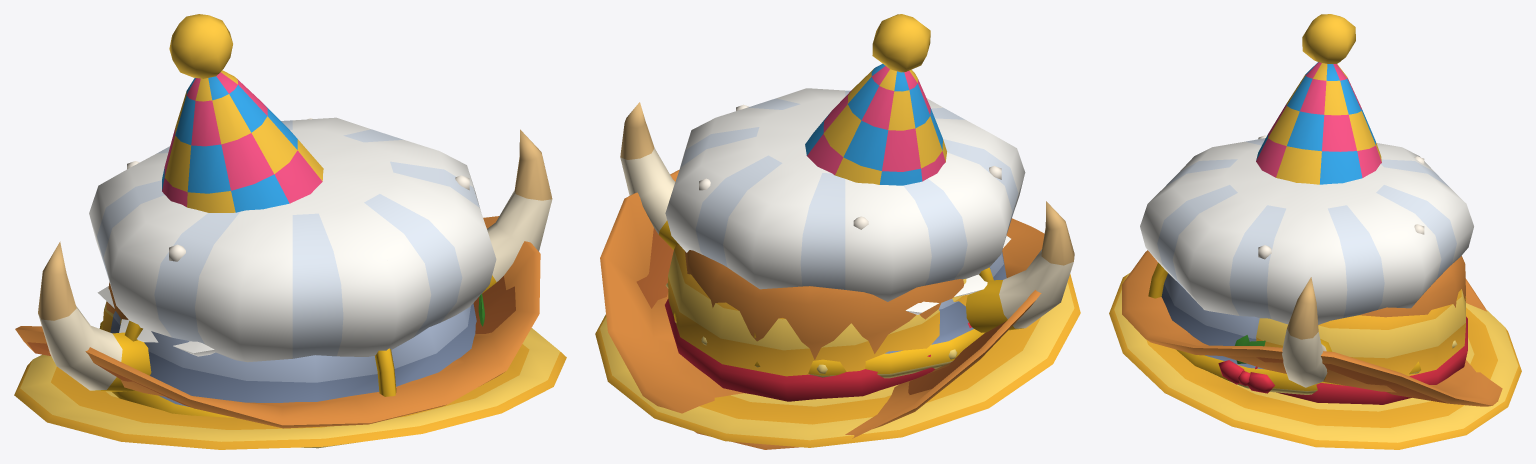
Rendered from hats.glb.
3 views of the same model, side by side, from view 1: azimuth 30°, elevation 25°; view 2: azimuth 150°, elevation 25°; view 3: azimuth 270°, elevation 25° (orthographic). The views are drawn at different scales.
Parts seen in each view (by area): view 1: Hat_chef, Hat_viking, Hat_party, Hat_straw, Hat_cowboy; view 2: Hat_chef, Hat_straw, Hat_cowboy, Hat_party, Hat_viking; view 3: Hat_chef, Hat_straw, Hat_party, Hat_cowboy, Hat_viking.
Part boxes in pixels (x1,y1,x2,y2): Hat_chef: (89,117,496,362); Hat_viking: (38,129,552,448); Hat_party: (97,14,323,356); Hat_straw: (14,294,566,449); Hat_cowboy: (15,216,540,428); Hat_chef: (665,88,1025,301); Hat_straw: (595,243,1080,447); Hat_cowboy: (600,170,1044,449); Hat_party: (805,14,1010,314); Hat_viking: (620,102,1074,378); Hat_chef: (1140,138,1473,324); Hat_straw: (1109,272,1521,449); Hat_party: (1256,14,1381,184); Hat_cowboy: (1122,250,1502,406); Hat_viking: (1148,262,1466,394).
Bounding box in the file's own units: 0.8743 × 0.6803 × 0.7731.
